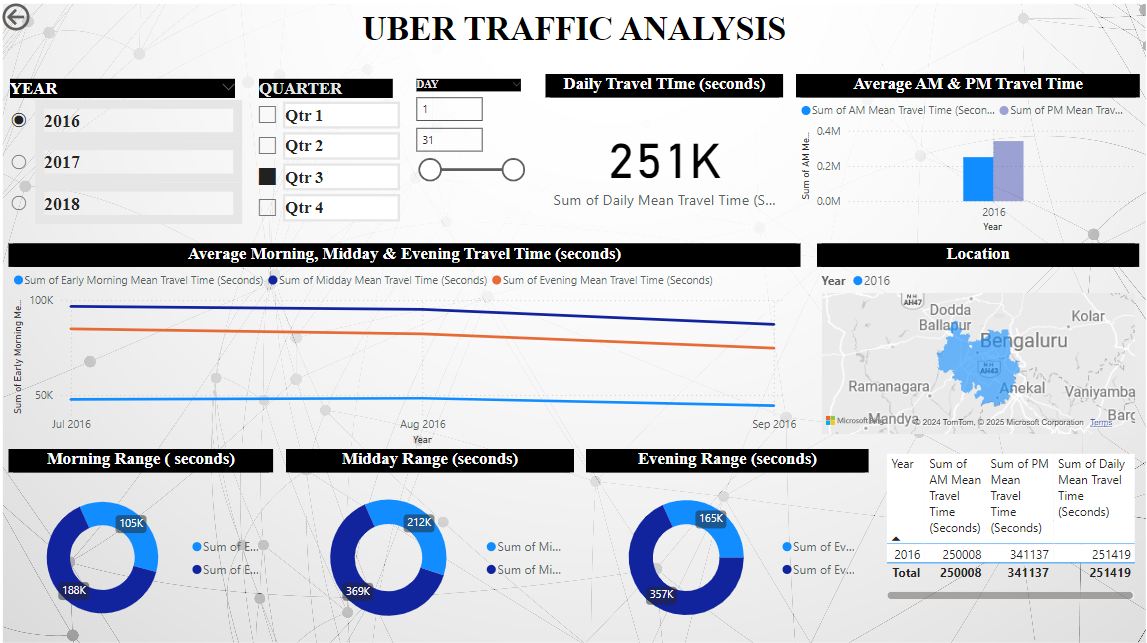

What the dashboard file says about the page in this screenshot:
{"tool":"powerbi","page":{"name":"Page 1","canvas":[1280,720],"ordinal":0},"visuals":[{"type":"image","box":[0,0,1280,720],"z":500},{"type":"textbox","box":[0,6.7,1280,63.3],"z":1000},{"type":"lineClusteredColumnComboChart","title":"Average AM & PM Travel Time","fields":{"Category":["Sheet1.Date.Variation.Date Hierarchy.Year"],"Y":["Sum(Sheet1.AM Mean Travel Time (Seconds))","Sum(Sheet1.PM Mean Travel Time (Seconds))"]},"box":[886,84,382,180],"z":2000},{"type":"actionButton","box":[0,0,100,40],"z":3000},{"type":"slicer","fields":{"Values":["Sheet1.Date.Variation.Date Hierarchy.Year"]},"box":[0,84,276,188],"z":4000},{"type":"lineChart","title":"Average Morning, Midday & Evening Travel Time (seconds)","fields":{"Category":["Sheet1.Date.Variation.Date Hierarchy.Year","Sheet1.Date.Variation.Date Hierarchy.Month"],"Y":["Sum(Sheet1.Early Morning Mean Travel Time (Seconds))","Sum(Sheet1.Midday Mean Travel Time (Seconds))","Sum(Sheet1.Evening Mean Travel Time (Seconds))"]},"box":[12,272,880,228],"z":5000},{"type":"filledMap","title":"Location","fields":{"Category":["Sheet1.Origin Display Name"],"Series":["Sheet1.Date.Variation.Date Hierarchy.Year"]},"box":[910,272,358,216],"z":6000},{"type":"tableEx","fields":{"Values":["Sheet1.Date.Variation.Date Hierarchy.Year","Sum(Sheet1.AM Mean Travel Time (Seconds))","Sum(Sheet1.PM Mean Travel Time (Seconds))","Sum(Sheet1.Daily Mean Travel Time (Seconds))"]},"box":[982,500,286,172],"z":7000},{"type":"donutChart","title":"Morning Range ( seconds)","fields":{"Y":["Sum(Sheet1.Early Morning Range - Lower Bound Travel Time (Seconds))","Sum(Sheet1.Early Morning Range - Upper Bound Travel Time (Seconds))"]},"box":[12,500,294,220],"z":8000},{"type":"donutChart","title":"Midday Range (seconds) ","fields":{"Y":["Sum(Sheet1.Midday Range - Lower Bound Travel Time (Seconds))","Sum(Sheet1.Midday Range - Upper Bound Travel Time (Seconds))"]},"box":[320,500,320,220],"z":9000},{"type":"donutChart","title":"Evening Range (seconds)","fields":{"Y":["Sum(Sheet1.Evening Range - Lower Bound Travel Time (Seconds))","Sum(Sheet1.Evening Range - Upper Bound Travel Time (Seconds))"]},"box":[654,500,314,220],"z":10000},{"type":"card","title":"Daily Travel TIme (seconds)","fields":{"Values":["Sum(Sheet1.Daily Mean Travel Time (Seconds))"]},"box":[608,84,264,180],"z":11000},{"type":"slicer","fields":{"Values":["Sheet1.Date.Variation.Date Hierarchy.Quarter"]},"box":[276.7,83.3,175,180],"z":12000},{"type":"slicer","fields":{"Values":["Sheet1.Date.Variation.Date Hierarchy.Day"]},"box":[452,84,142,180],"z":13000}]}

Visuals, with their boxes in screenshot pixels (x1, y1, x2, y2), scaled from the page's 1280x720 canvas onto the 1147x643 screenshot:
image: (0, 0, 1146, 642)
textbox: (0, 6, 1146, 63)
"Average AM & PM Travel Time" lineClusteredColumnComboChart: (794, 75, 1136, 236)
actionButton: (0, 0, 90, 36)
slicer - Sheet1.Date.Variation.Date Hierarchy.Year: (0, 75, 247, 243)
"Average Morning, Midday & Evening Travel Time (seconds)" lineChart: (11, 243, 799, 447)
"Location" filledMap: (815, 243, 1136, 436)
tableEx - Sheet1.Date.Variation.Date Hierarchy.Year x Sum(Sheet1.AM Mean Travel Time (Seconds)): (880, 447, 1136, 600)
"Morning Range ( seconds)" donutChart: (11, 447, 274, 642)
"Midday Range (seconds) " donutChart: (287, 447, 574, 642)
"Evening Range (seconds)" donutChart: (586, 447, 867, 642)
"Daily Travel TIme (seconds)" card: (545, 75, 781, 236)
slicer - Sheet1.Date.Variation.Date Hierarchy.Quarter: (248, 74, 405, 235)
slicer - Sheet1.Date.Variation.Date Hierarchy.Day: (405, 75, 532, 236)
